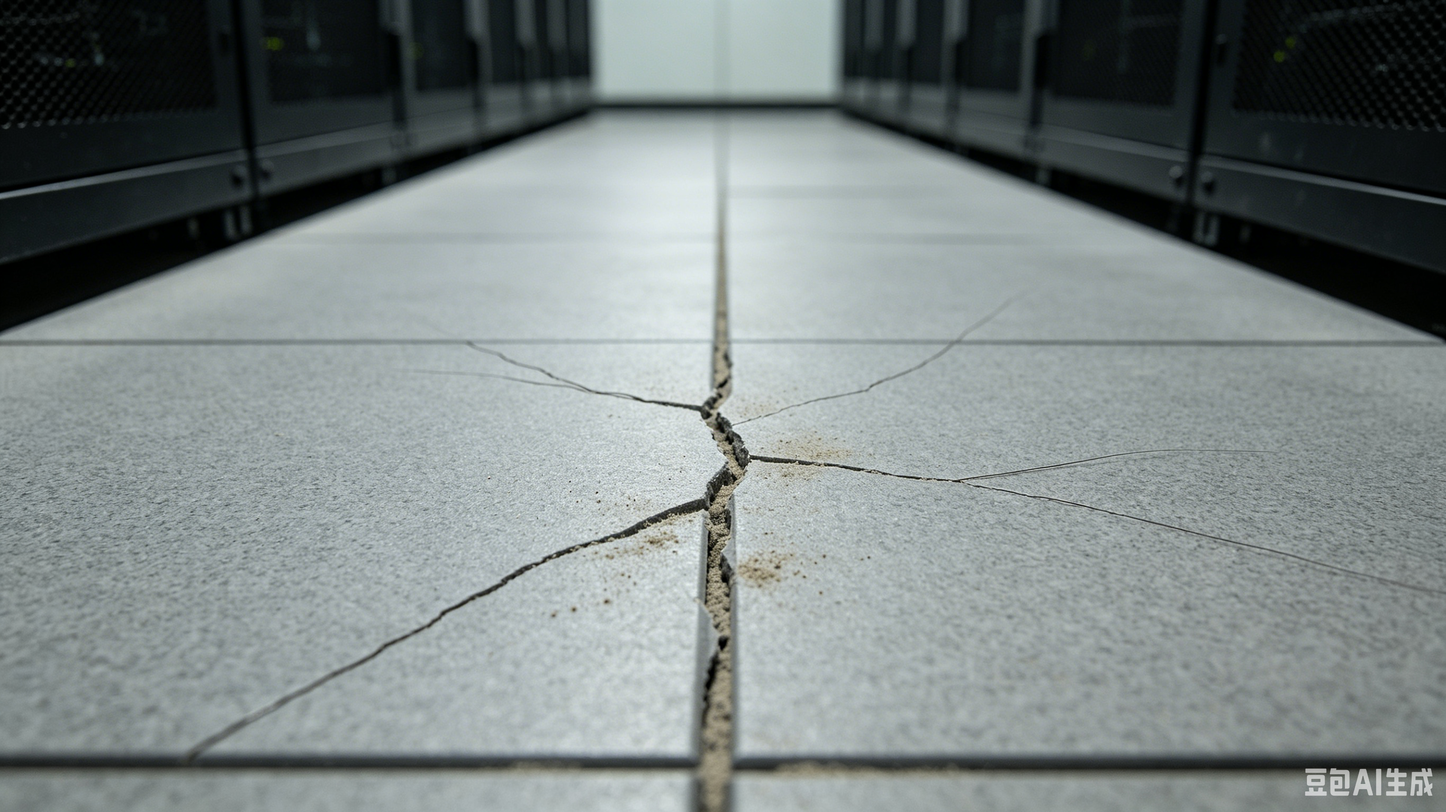floor_defect: (472, 337, 825, 618), (834, 435, 1291, 555), (257, 588, 469, 684), (149, 683, 360, 761), (830, 331, 968, 402)
